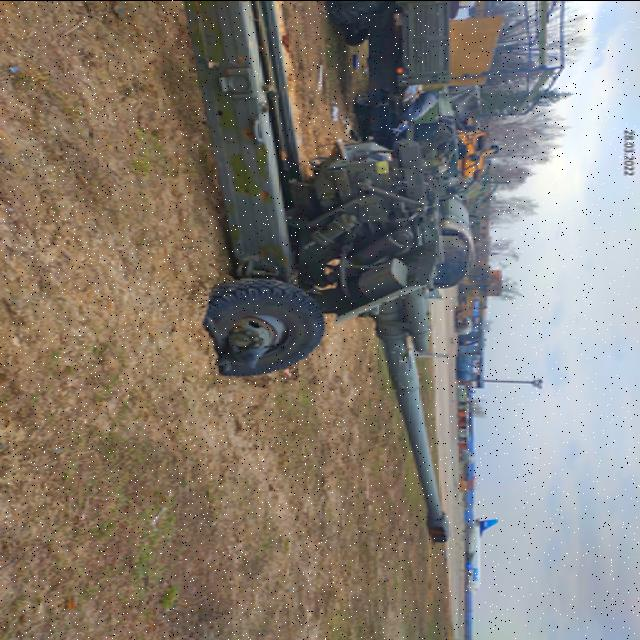ART: (180, 0, 460, 539)
